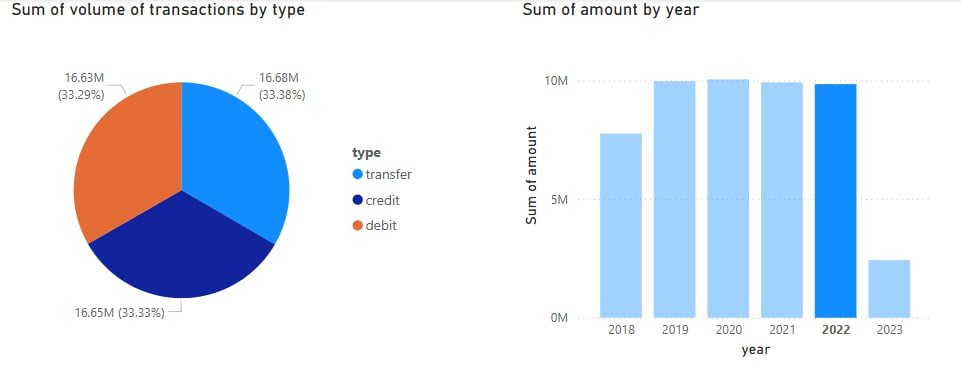

The page's visual inventory and layout, read from the dashboard file:
{"tool":"powerbi","page":{"name":"Page 1","canvas":[1280,720],"ordinal":0},"visuals":[{"type":"pieChart","fields":{"Y":["Sum(public report.volume of transactions)"],"Category":["public report.type"]},"box":[9.7,0,409.5,353.1],"z":0},{"type":"clusteredColumnChart","fields":{"Category":["public report2.year"],"Y":["Sum(public report2.amount)"]},"box":[506.7,0,409.5,353.1],"z":1}]}

Visuals, with their boxes on the page's 1280x720 design canvas (x1, y1, x2, y2). These are canvas units, not pixel positions in the 961x375 screenshot, which may show the page scaled, cropped or inside an application window:
pieChart - Sum(public report.volume of transactions) x public report.type: (10,0,419,353)
clusteredColumnChart - public report2.year x Sum(public report2.amount): (507,0,916,353)
